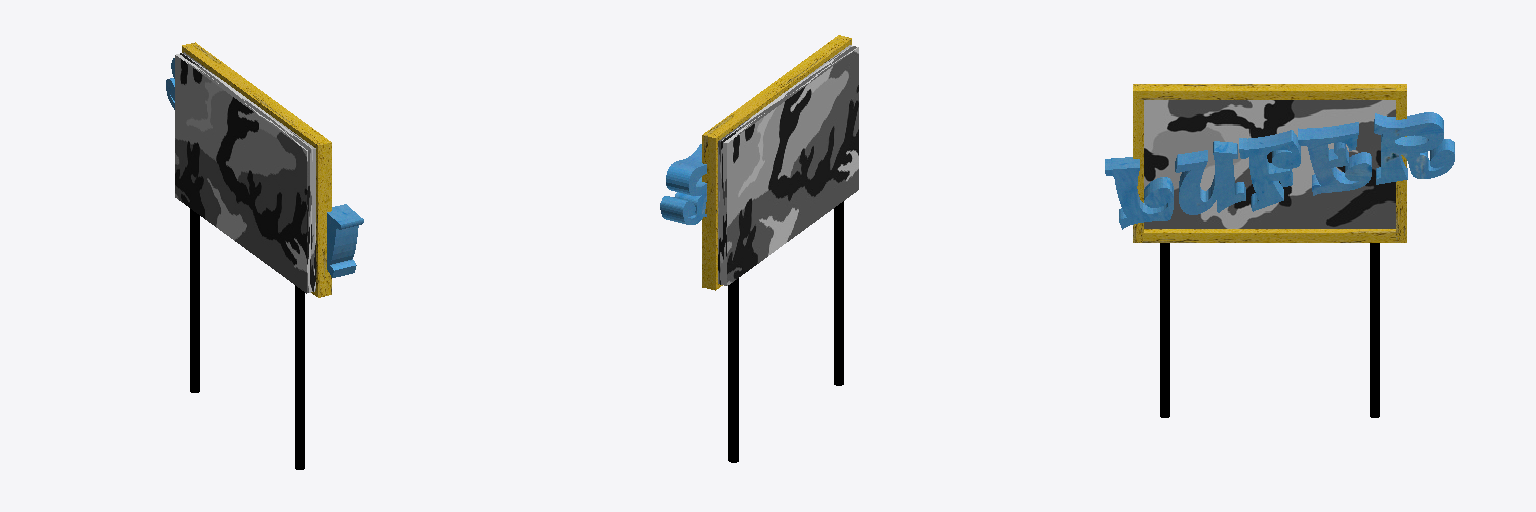
3 renders of one model, left to right at view 1: azimuth 30°, elevation 25°; view 2: azimuth 150°, elevation 25°; view 3: azimuth 270°, elevation 25°, orthographic.
Parts seen in each view (by area): view 1: Letrero:pCube4, Letrero:pCube2, typeMesh1, Letrero:pCube5, Letrero:pCylinder2, Letrero:pCylinder1; view 2: Letrero:pCube4, typeMesh1, Letrero:pCube2, Letrero:pCube1, Letrero:pCylinder1, Letrero:pCylinder2; view 3: Letrero:pCube4, typeMesh1, Letrero:pCube2, Letrero:pCube3, Letrero:pCylinder1, Letrero:pCylinder2, Letrero:pCube5, Letrero:pCube1.
Boxes of the visible parts, x1,y1,x2,y2 form: Letrero:pCube4: [175, 52, 315, 293]; Letrero:pCube2: [184, 44, 328, 146]; typeMesh1: [166, 58, 363, 277]; Letrero:pCube5: [313, 140, 331, 297]; Letrero:pCylinder2: [295, 285, 304, 469]; Letrero:pCylinder1: [190, 209, 199, 392]; Letrero:pCube4: [718, 45, 858, 285]; typeMesh1: [660, 144, 706, 224]; Letrero:pCube2: [705, 37, 849, 139]; Letrero:pCube1: [702, 133, 720, 290]; Letrero:pCylinder1: [728, 278, 738, 462]; Letrero:pCylinder2: [834, 201, 843, 385]; Letrero:pCube4: [1144, 100, 1395, 228]; typeMesh1: [1105, 112, 1454, 229]; Letrero:pCube2: [1139, 84, 1400, 99]; Letrero:pCube3: [1139, 229, 1400, 242]; Letrero:pCylinder1: [1370, 243, 1379, 417]; Letrero:pCylinder2: [1160, 243, 1169, 417]; Letrero:pCube5: [1133, 84, 1143, 242]; Letrero:pCube1: [1396, 84, 1406, 242].
Size of the model in its own units: 4.42 by 35 by 33.37.
Materials: 4 (3 with a texture image).